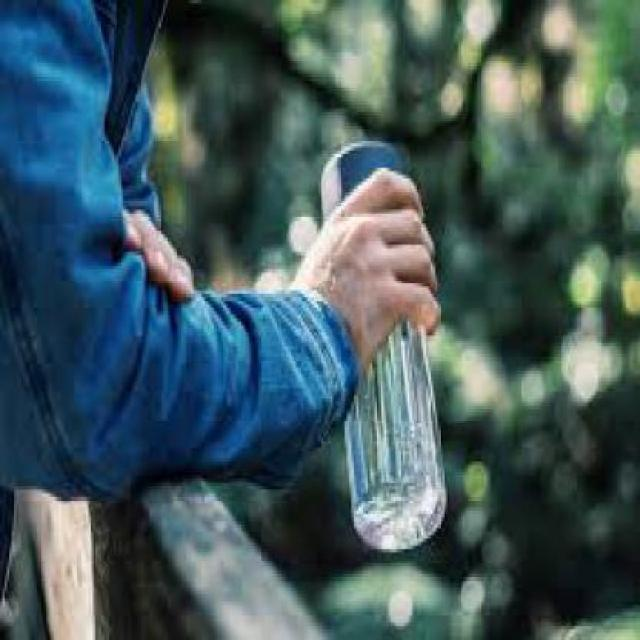Drinking: (305, 119, 463, 570)
